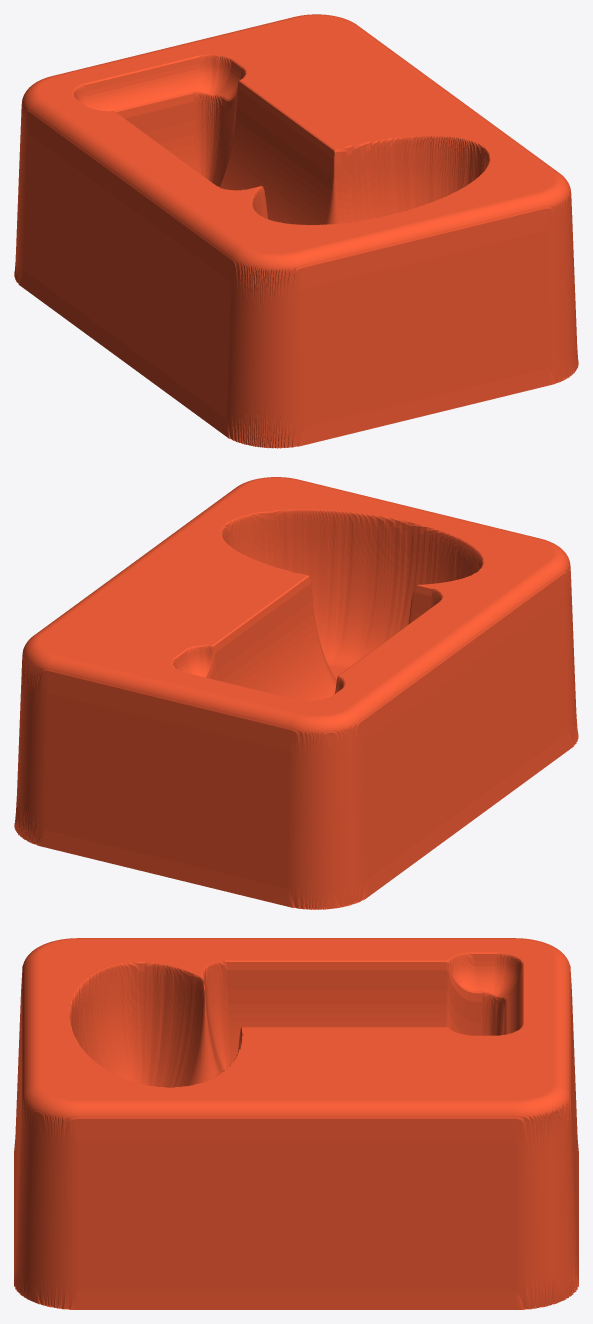
File: mold.glb
3 views of the same model, one above another, from view 1: azimuth 30°, elevation 25°; view 2: azimuth 150°, elevation 25°; view 3: azimuth 270°, elevation 25° (orthographic). The views are drawn at different scales.
Visible parts, largest first — view 1: geometry_0; view 2: geometry_0; view 3: geometry_0.
Part boxes in pixels (x1,y1,x2,y2): geometry_0: [14, 14, 578, 448]; geometry_0: [14, 477, 578, 909]; geometry_0: [14, 938, 578, 1309].
Bounding box in the file's own units: 0.0608 × 0.031 × 0.0798.
